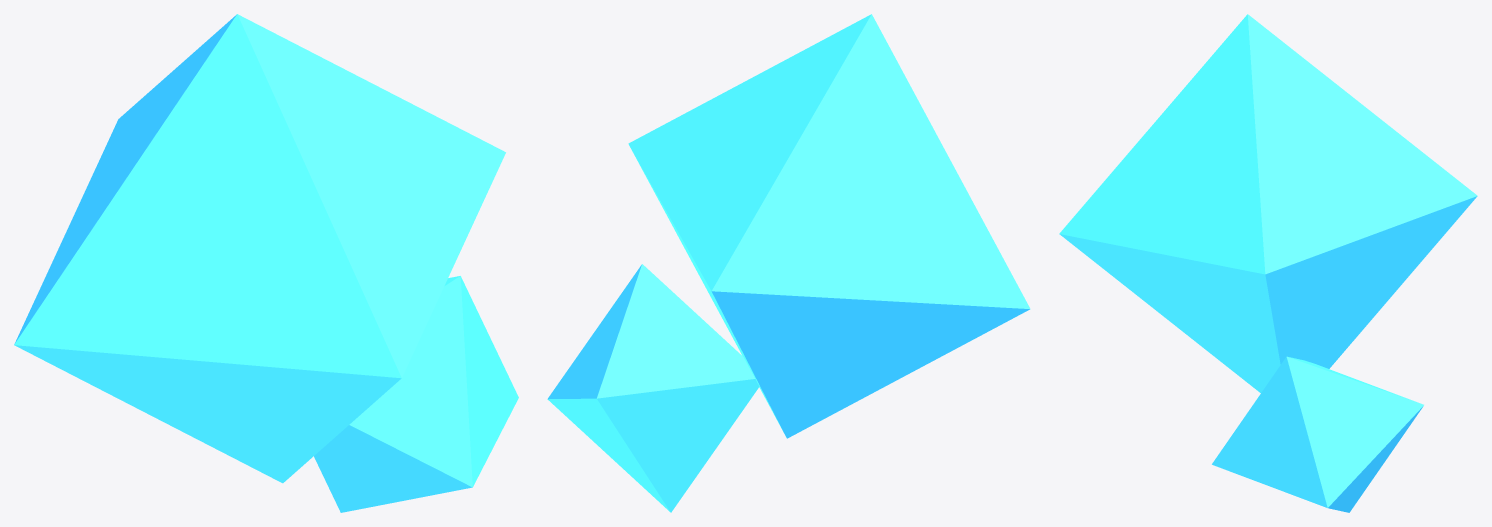
The model's file is ice_crystal_huge.glb.
3 renders of one model, left to right at view 1: azimuth 30°, elevation 25°; view 2: azimuth 150°, elevation 25°; view 3: azimuth 270°, elevation 25°, orthographic. The views are drawn at different scales.
Bounding box in the file's own units: 1.87 × 1.95 × 1.69.
